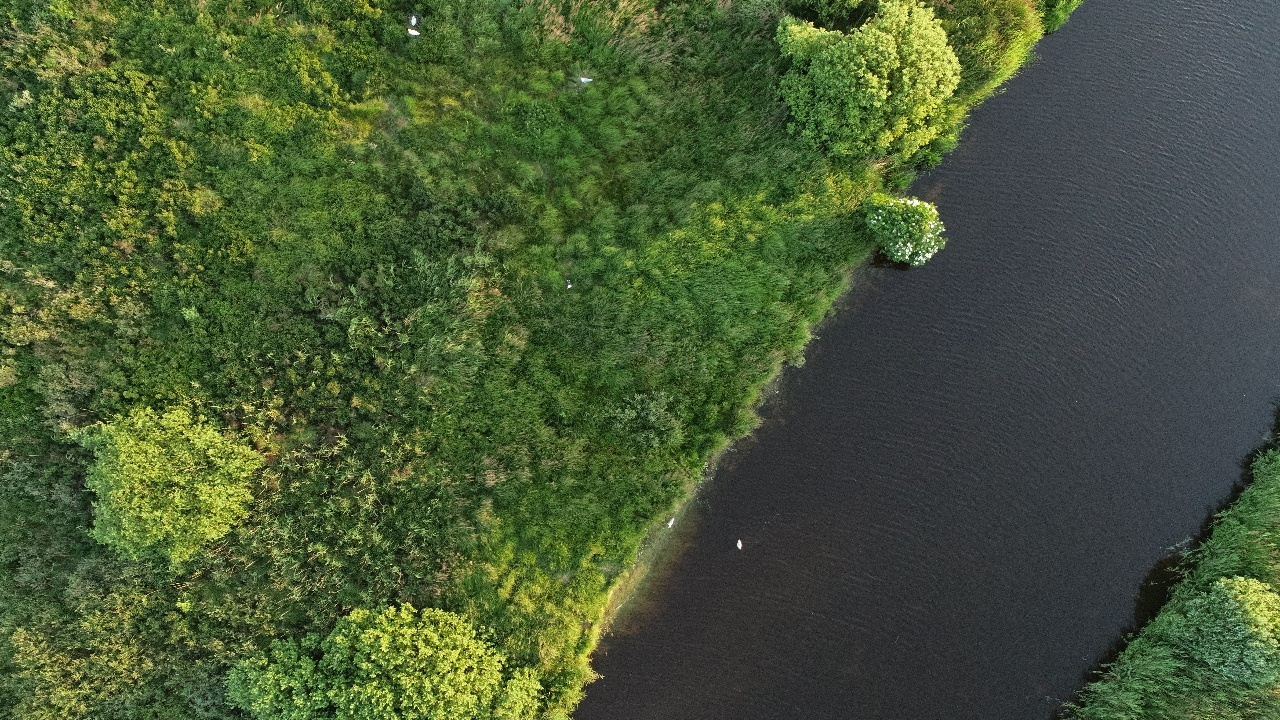Bird: (399, 4, 430, 29), (556, 270, 582, 297), (575, 65, 601, 92), (725, 531, 751, 557), (661, 511, 687, 537), (399, 21, 426, 45)
